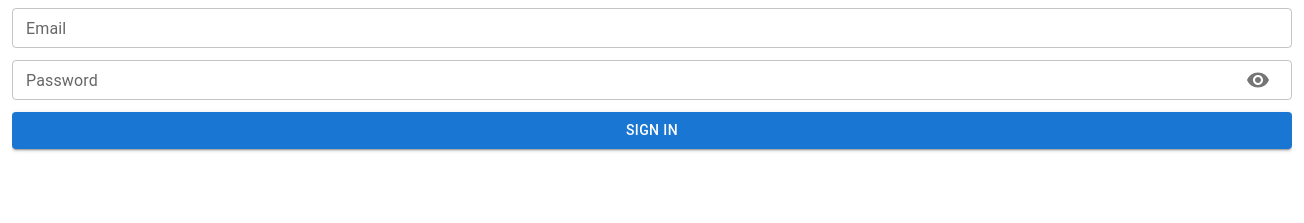
Test: Auth Form component › should display error if fields are empty
Click the button "Sign In".
click(652, 130)  # box [12, 112, 1292, 148]
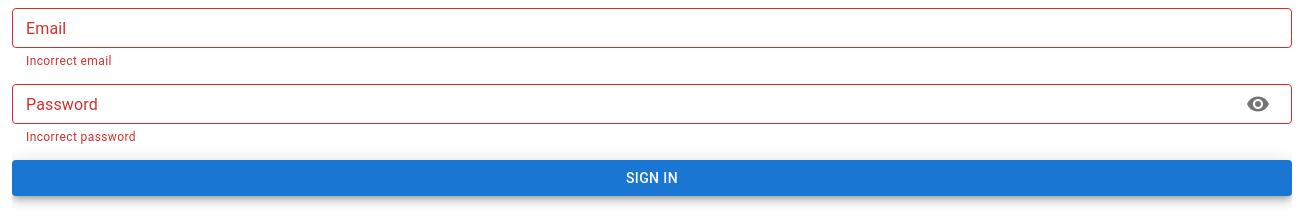
Result: the text "Incorrect email" is shown at [26, 54, 112, 68]
Result: the text "Incorrect password" is shown at [26, 130, 136, 144]
